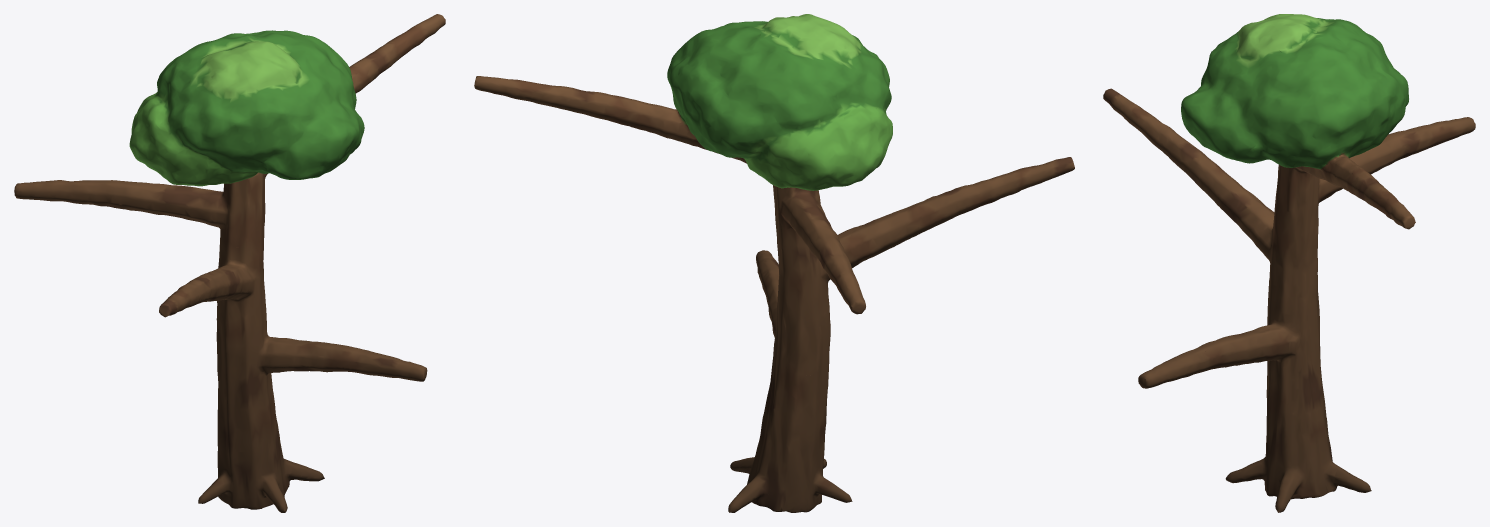
The model's file is broadleaf_sidebranches.glb.
3 renders of one model, left to right at view 1: azimuth 30°, elevation 25°; view 2: azimuth 150°, elevation 25°; view 3: azimuth 270°, elevation 25°, orthographic. The views are drawn at different scales.
Parts seen in each view (by area): view 1: broadleaf_sidebranches_LOD0; view 2: broadleaf_sidebranches_LOD0; view 3: broadleaf_sidebranches_LOD0.
Boxes of the visible parts, x1,y1,x2,y2 form: broadleaf_sidebranches_LOD0: [14, 14, 445, 512]; broadleaf_sidebranches_LOD0: [474, 14, 1074, 512]; broadleaf_sidebranches_LOD0: [1103, 14, 1475, 512].
Size of what is drawn, in the model's own units: 3.98 by 4.05 by 2.91.
